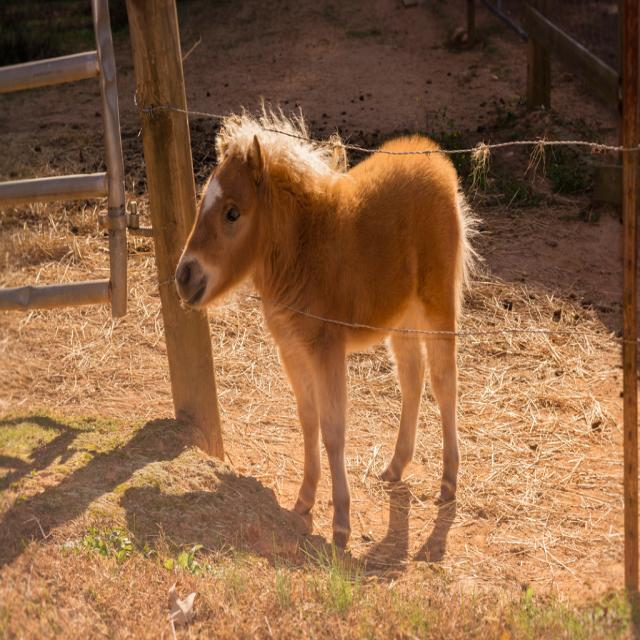Horse: (174, 94, 486, 547)
